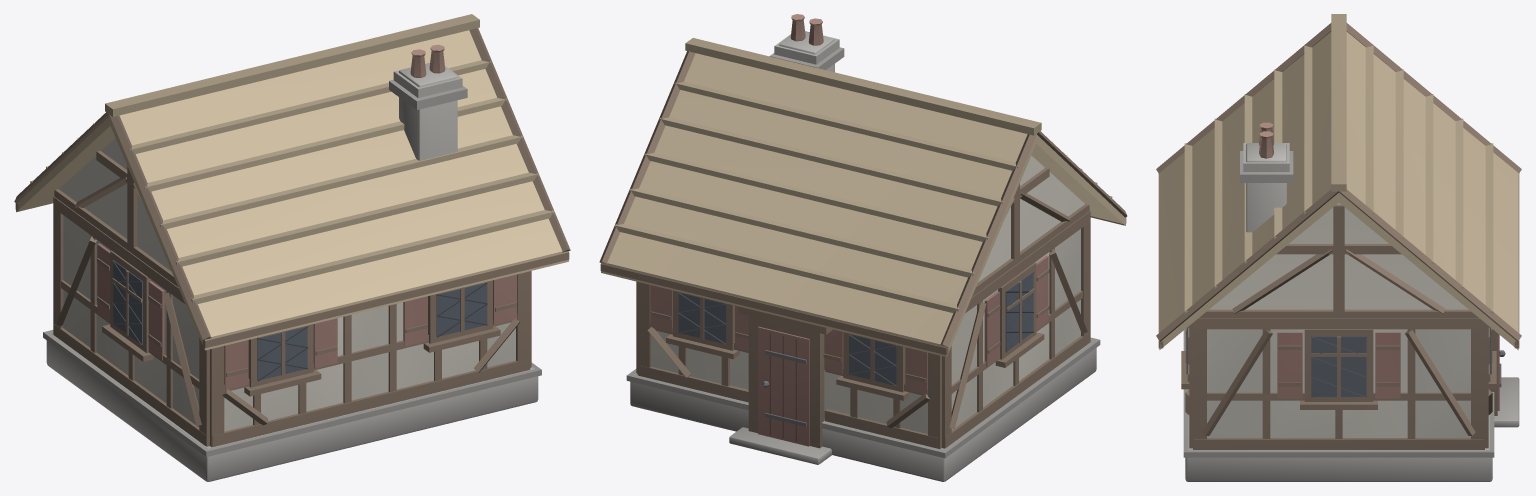
The model's file is cottage_amber.gltf.
3 renders of one model, left to right at view 1: azimuth 30°, elevation 25°; view 2: azimuth 150°, elevation 25°; view 3: azimuth 270°, elevation 25°, orthographic. The views are drawn at different scales.
Visible parts, largest first — view 1: Body; view 2: Body; view 3: Body.
Boxes of the visible parts, x1=… form: Body: x1=14, y1=14, x2=570, y2=481; Body: x1=599, y1=14, x2=1127, y2=481; Body: x1=1156, y1=14, x2=1521, y2=481.
Bounding box in the file's own units: 6.97 × 6.12 × 6.32.
